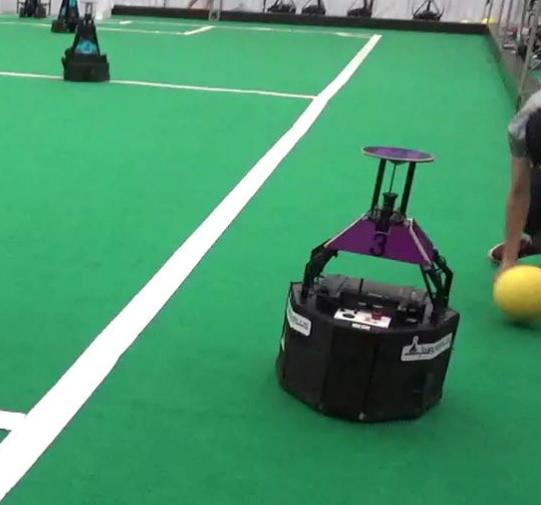robot: (273, 135, 466, 427)
